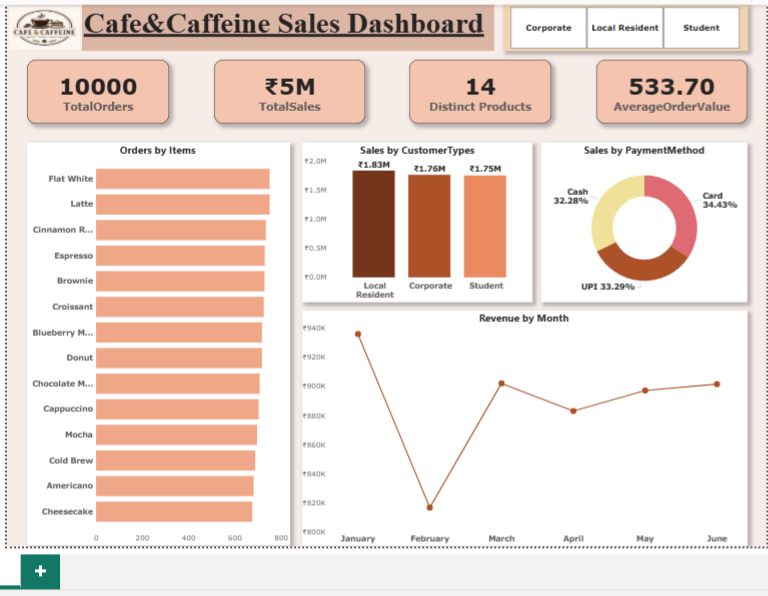

The page's visual inventory and layout, read from the dashboard file:
{"tool":"powerbi","page":{"name":"Dashboard","canvas":[2100,1500],"ordinal":0},"visuals":[{"type":"textbox","box":[207.3,0,1140.2,128],"z":0},{"type":"image","box":[0,0,207.3,128],"z":1},{"type":"card","fields":{"Values":["cafecaffeine.TotalOrders"]},"box":[54.9,152.4,393.3,176.8],"z":2},{"type":"card","fields":{"Values":["cafecaffeine.TotalSales"]},"box":[572.2,152.4,417.7,176.8],"z":3},{"type":"card","fields":{"Values":["cafecaffeine.AverageOrderValue"]},"box":[1631.1,152.4,417.7,176.8],"z":4},{"type":"card","fields":{"Values":["Count(cafecaffeine.Item)"]},"box":[1113.8,152.4,393.3,176.8],"z":5},{"type":"clusteredColumnChart","title":"Sales by CustomerTypes","fields":{"Y":["cafecaffeine.TotalSales"],"Category":["cafecaffeine.CustomerType"]},"box":[817.1,381.1,637.2,442.1],"z":6},{"type":"donutChart","title":"Sales by PaymentMethod","fields":{"Y":["cafecaffeine.TotalSales"],"Category":["cafecaffeine.PaymentMethod"]},"box":[1478.7,381.1,570.1,442.1],"z":7},{"type":"clusteredBarChart","title":"Orders by Items","fields":{"Category":["cafecaffeine.Item"],"Y":["cafecaffeine.TotalOrders"]},"box":[54.9,381.1,728,1116],"z":8},{"type":"lineChart","title":"Revenue by Month","fields":{"Y":["cafecaffeine.TotalSales"],"Category":["cafecaffeine.OrderDate.Variation.Date Hierarchy.Month"]},"box":[817.1,847.6,1231.7,652.4],"z":9},{"type":"slicer","fields":{"Values":["cafecaffeine.CustomerType"]},"box":[1372,0,676.8,128],"z":10}]}

Visuals, with their boxes in screenshot pixels (x1, y1, x2, y2):
textbox: (60,0,486,32)
image: (0,0,60,32)
card - cafecaffeine.TotalOrders: (3,41,150,107)
card - cafecaffeine.TotalSales: (196,41,352,107)
card - cafecaffeine.AverageOrderValue: (592,41,748,107)
card - Count(cafecaffeine.Item): (398,41,546,107)
"Sales by CustomerTypes" clusteredColumnChart: (288,126,526,292)
"Sales by PaymentMethod" donutChart: (535,126,748,292)
"Orders by Items" clusteredBarChart: (3,126,275,544)
"Revenue by Month" lineChart: (288,301,748,545)
slicer - cafecaffeine.CustomerType: (495,0,748,32)
